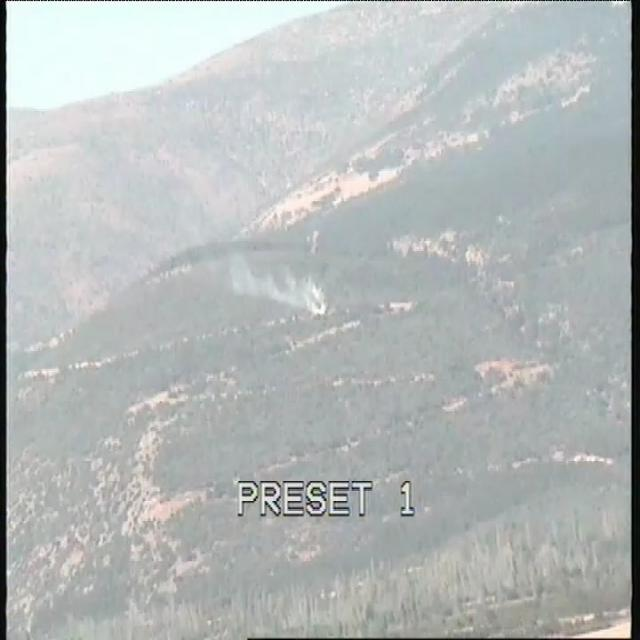smoke: (234, 266, 329, 310)
